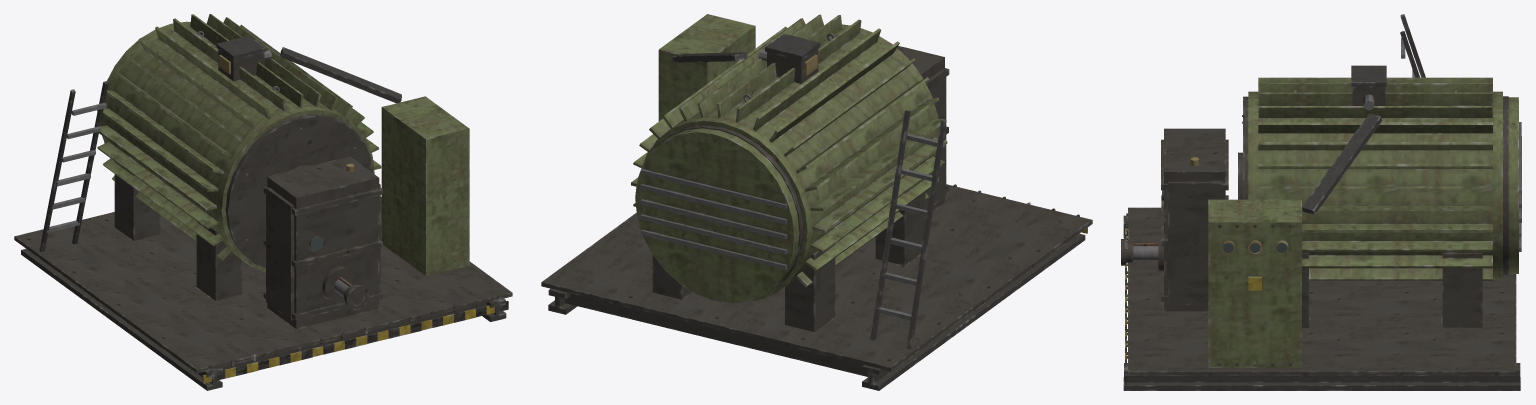
The model's file is feElectricMotor3_HD.fbx.
3 renders of one model, left to right at view 1: azimuth 30°, elevation 25°; view 2: azimuth 150°, elevation 25°; view 3: azimuth 270°, elevation 25°, orthographic. The views are drawn at different scales.
Parts seen in each view (by area): view 1: feElectricMotor3_Base, FeSpin_Motor3Out; view 2: feElectricMotor3_Base; view 3: feElectricMotor3_Base, FeSpin_Motor3Out.
Part boxes in pixels (<box>): feElectricMotor3_Base: <box>14,14,512,390</box>; FeSpin_Motor3Out: <box>334,277,368,310</box>; feElectricMotor3_Base: <box>541,14,1092,390</box>; feElectricMotor3_Base: <box>1123,14,1521,390</box>; FeSpin_Motor3Out: <box>1121,239,1158,265</box>.
Size of the model in its own units: 2.9 by 1.97 by 2.99.
1 material, 1 textured.
